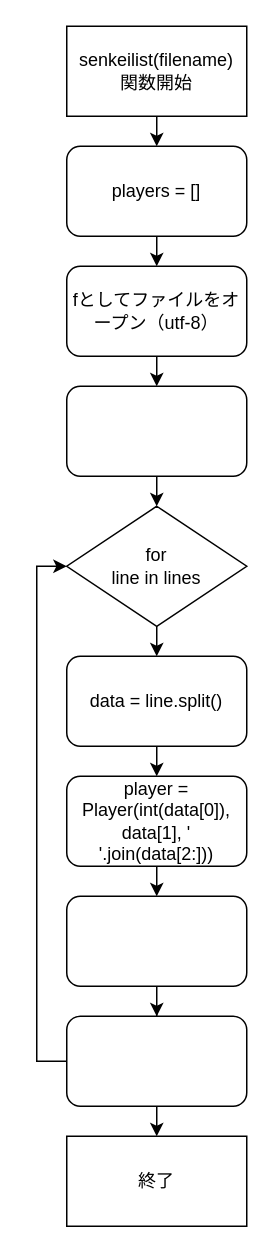
Image size: 273x1253. Some labels were removed from this diagram. Here are the shapes that lost their labels. From the top down, the box of each, then its label:
(65, 385, 247, 476): lines = f.readlines()
(65, 895, 247, 986): players.insert(0, player)
(65, 1015, 247, 1106): playersに値を返す
